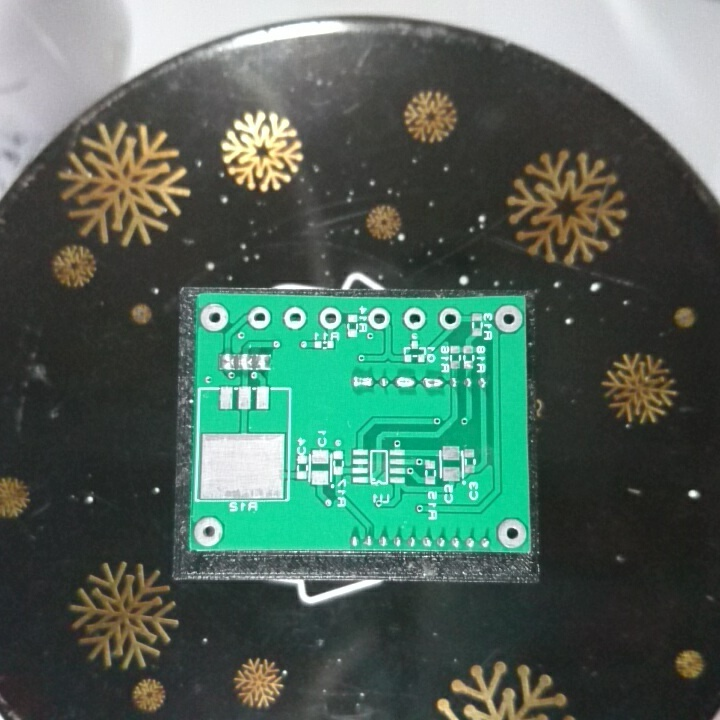F: (192, 515, 225, 547), (199, 300, 231, 333), (495, 516, 527, 548), (492, 304, 523, 335), (401, 304, 428, 332), (281, 305, 308, 332), (317, 305, 343, 331), (246, 305, 273, 330), (366, 306, 391, 332), (437, 306, 461, 331)
P: (350, 373, 377, 392), (420, 374, 444, 392), (392, 374, 418, 390)
